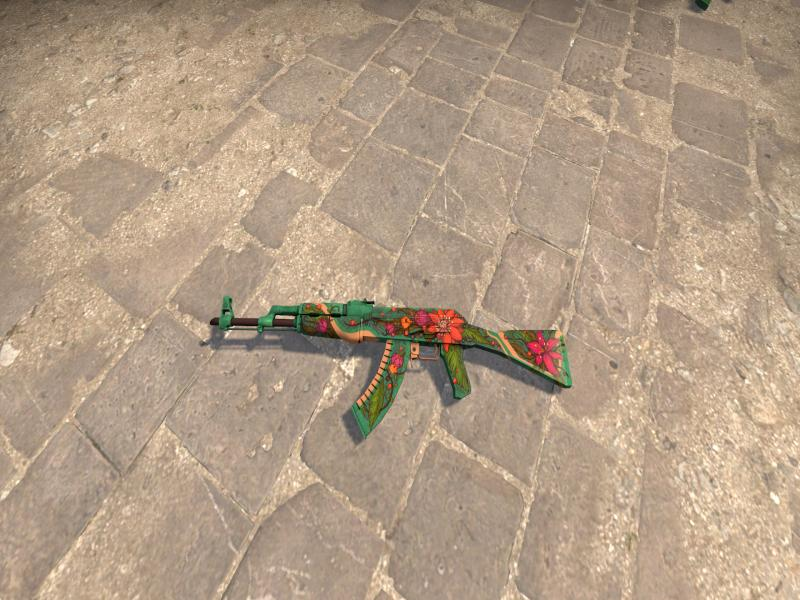AK47: (213, 298, 572, 437)
